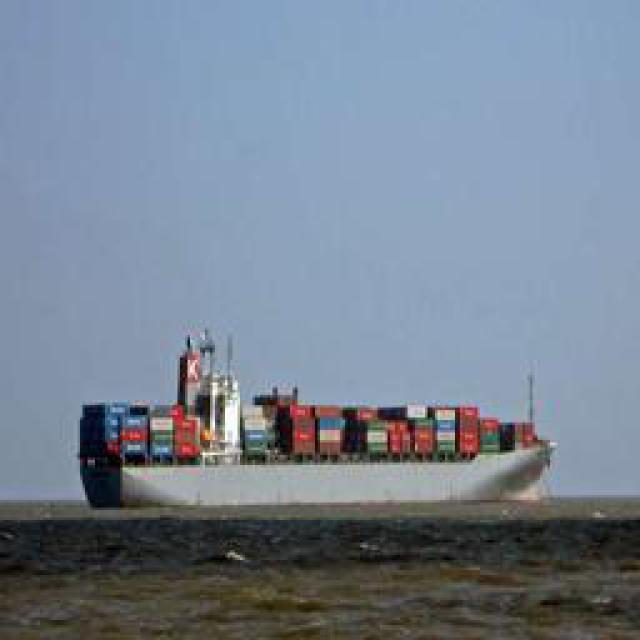Ship: (79, 373, 562, 521)
